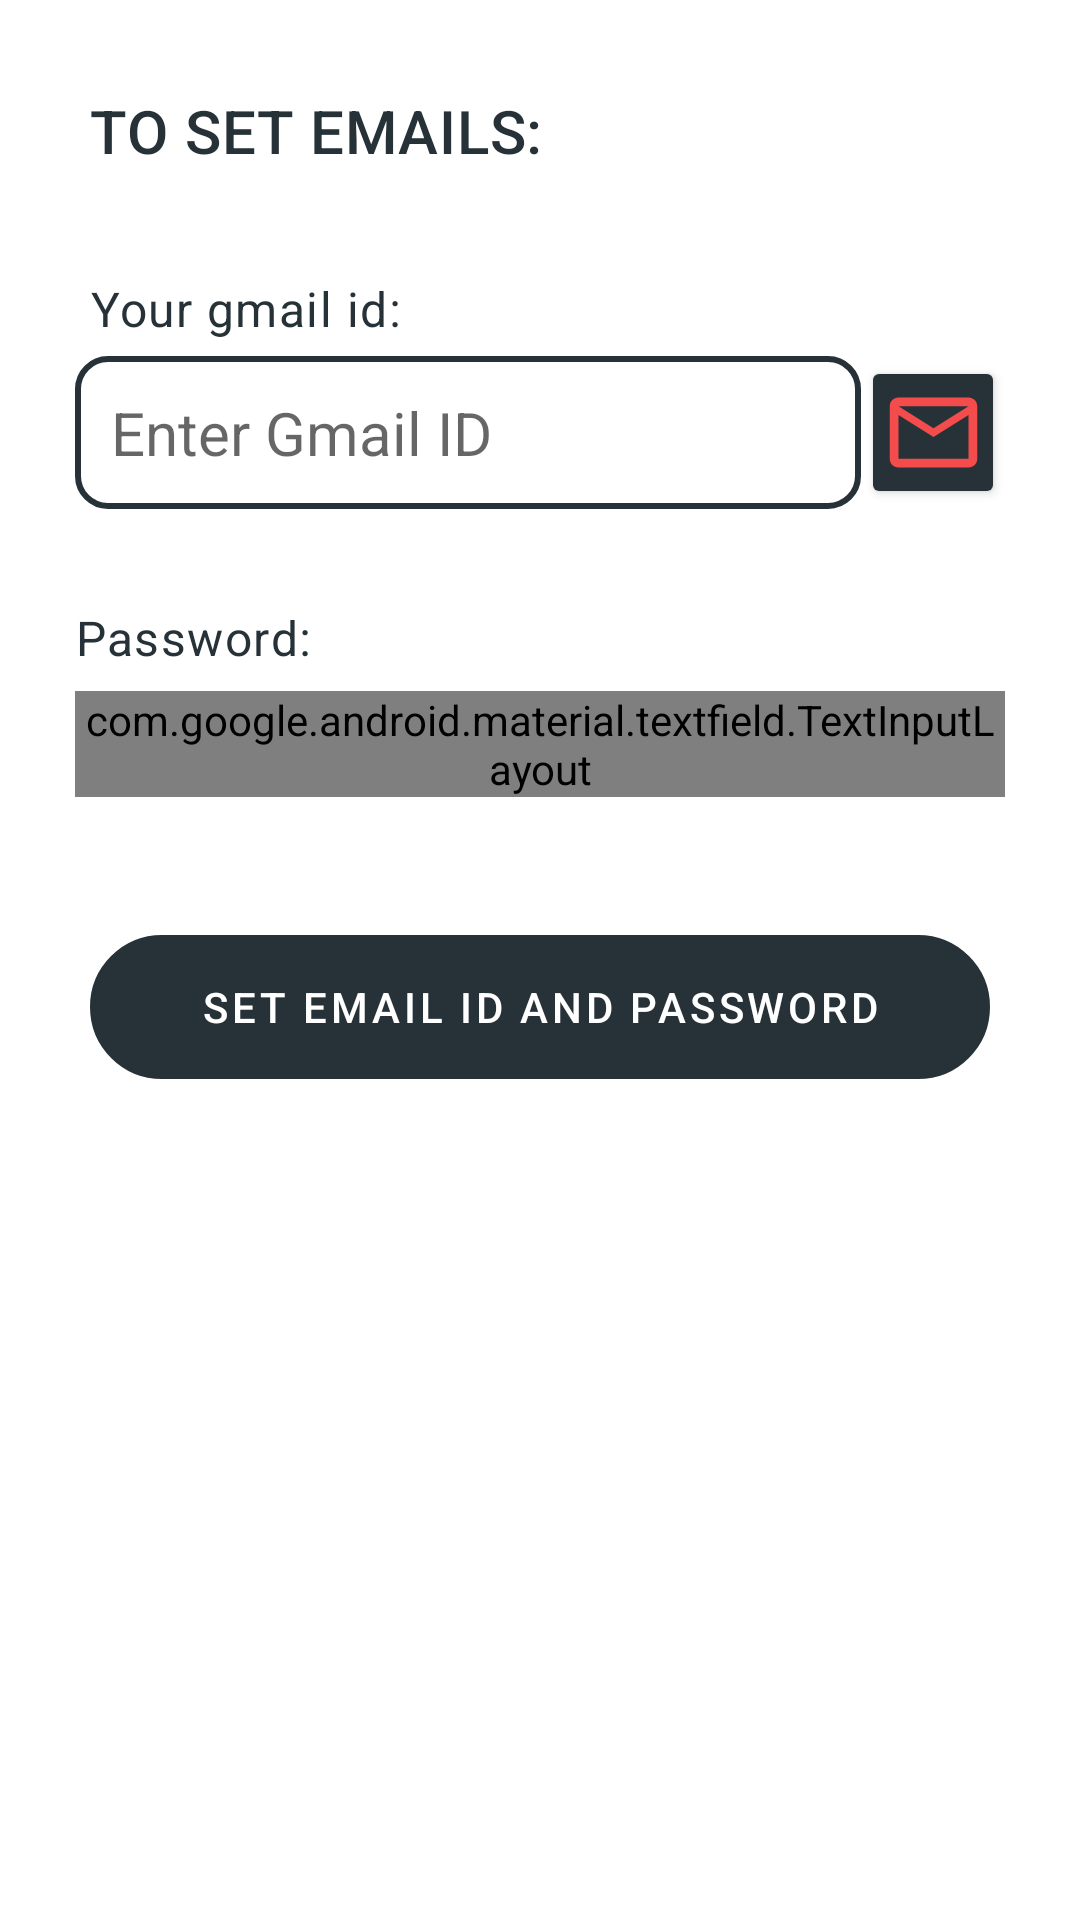

Screen size 1080px×1920px. Icon name, then its box in pixels as [x1, y1, x2, y2]:
email: [873, 374, 994, 492]
